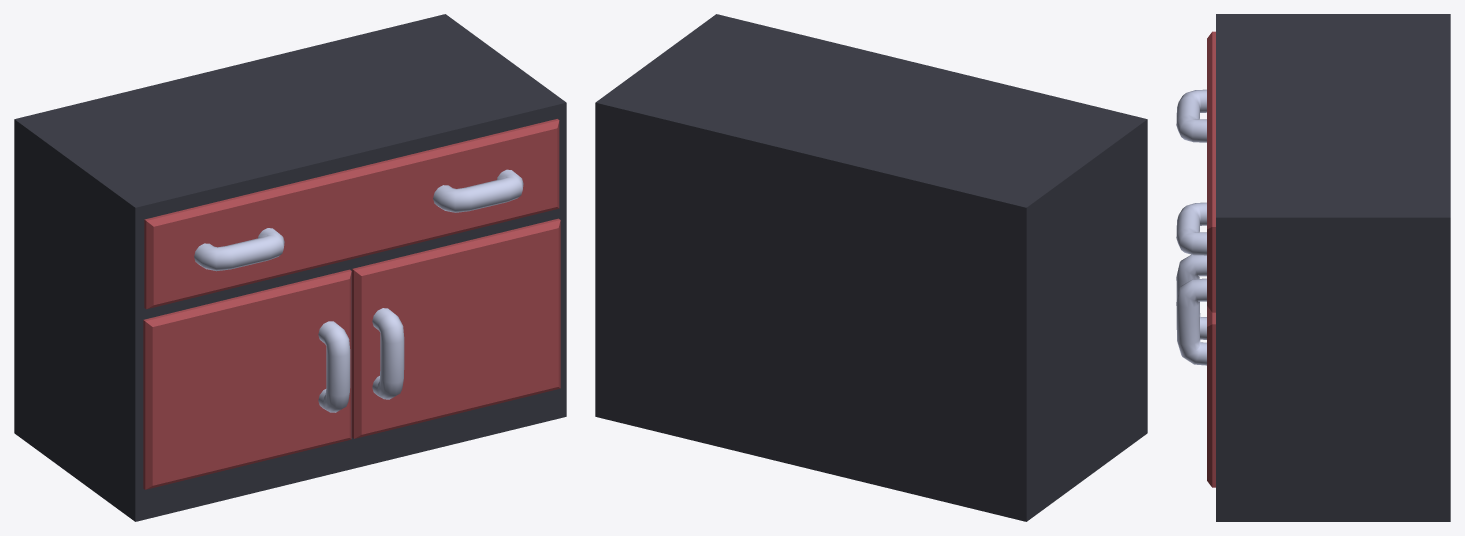
The model's file is Draws.fbx.
3 views of the same model, side by side, from view 1: azimuth 30°, elevation 25°; view 2: azimuth 150°, elevation 25°; view 3: azimuth 270°, elevation 25° (orthographic). The views are drawn at different scales.
Parts seen in each view (by area): view 1: Draws; view 2: Draws; view 3: Draws.
Part boxes in pixels (left/top/right/bottom): Draws: left=14, top=14, right=566, bottom=521; Draws: left=595, top=14, right=1147, bottom=521; Draws: left=1176, top=14, right=1450, bottom=521.
Bounding box in the file's own units: 373 × 260 × 212.
